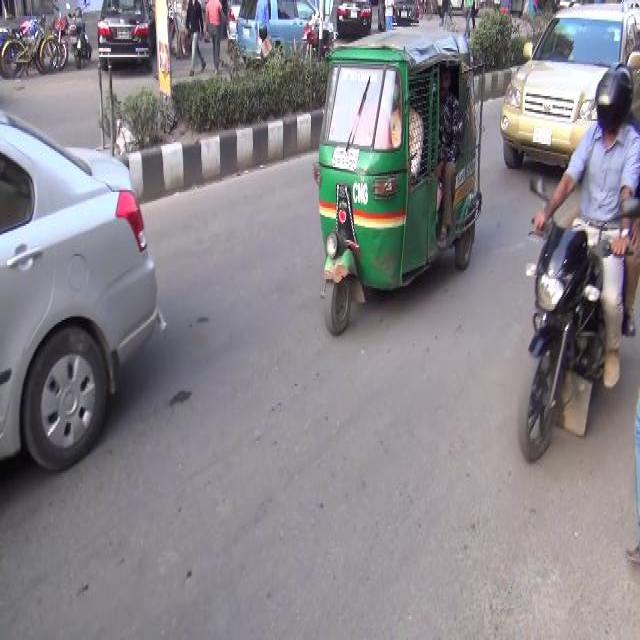bike: (517, 163, 640, 476), (2, 24, 62, 79), (66, 2, 93, 71)
vehicle: (2, 104, 171, 479), (310, 27, 486, 341), (500, 6, 600, 168), (236, 1, 337, 70), (96, 1, 157, 76), (376, 1, 422, 33), (338, 1, 375, 37)
